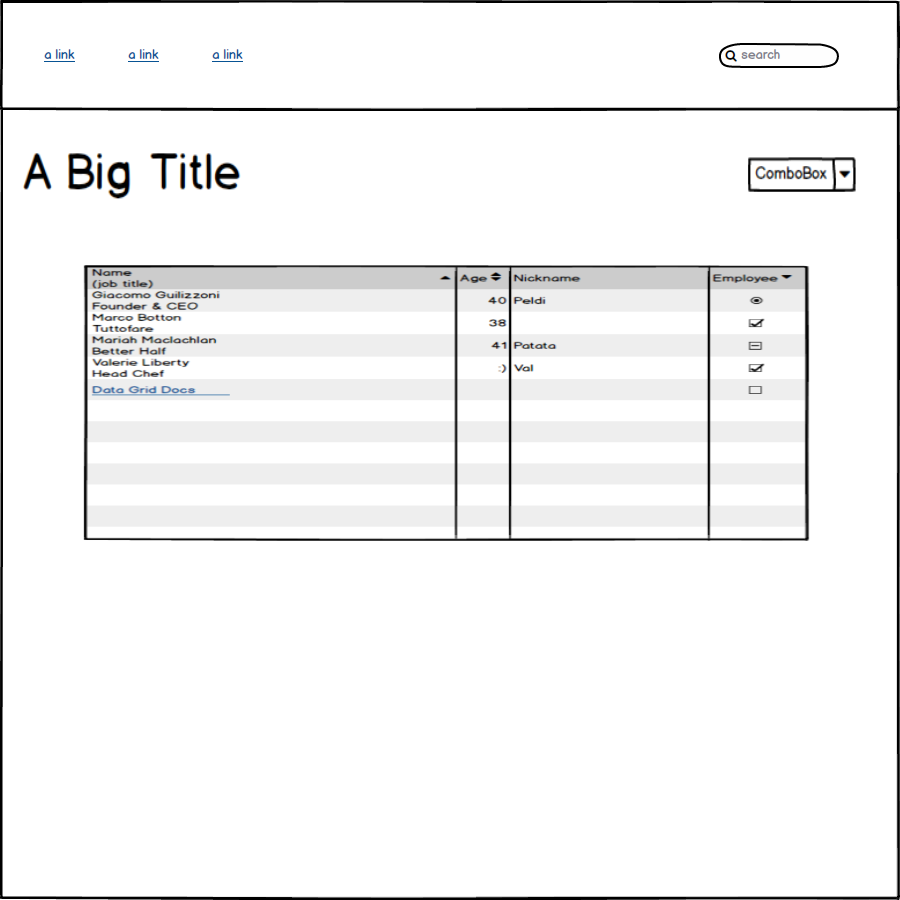h1: (18, 143, 252, 207)
navlink: (208, 40, 253, 73), (124, 40, 164, 73), (37, 44, 82, 67)
search: (712, 34, 844, 74)
select_box: (744, 152, 865, 195)
table: (78, 259, 813, 545)
